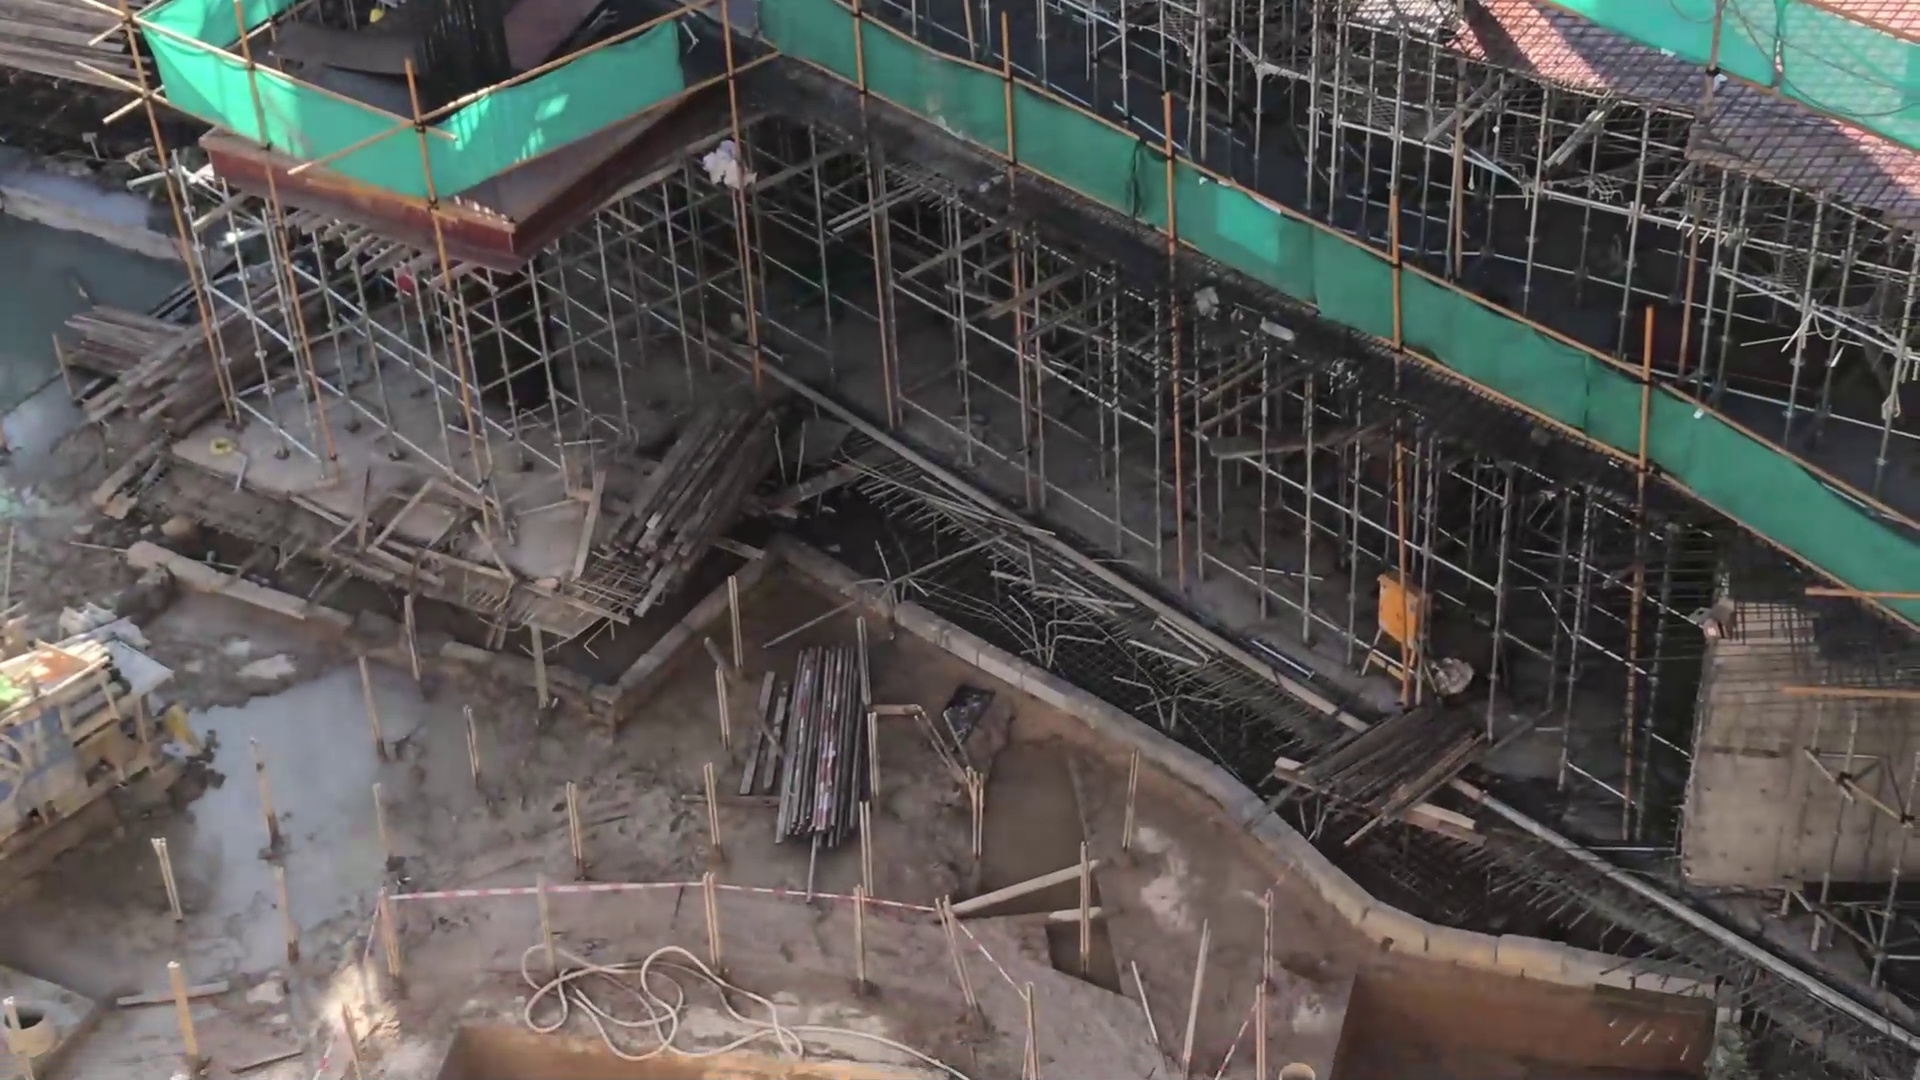ebox: (1340, 535, 1451, 702)
